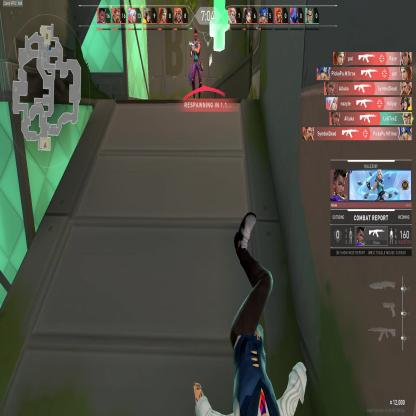enemy: (189, 26, 203, 84)
